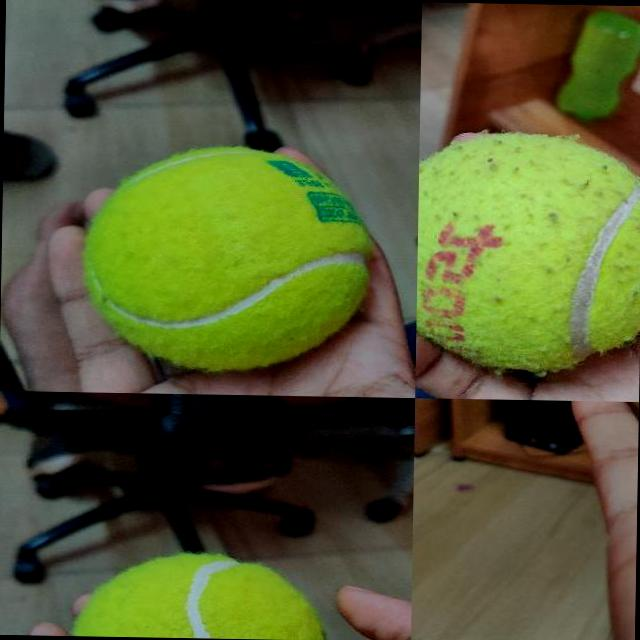Tennis Ball: (76, 143, 374, 373), (417, 130, 640, 374), (70, 552, 328, 639)
